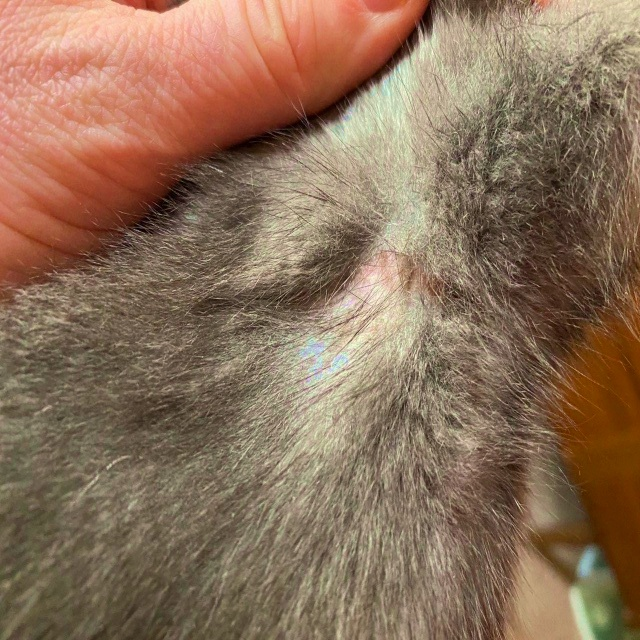hairloss: (322, 239, 445, 333)
